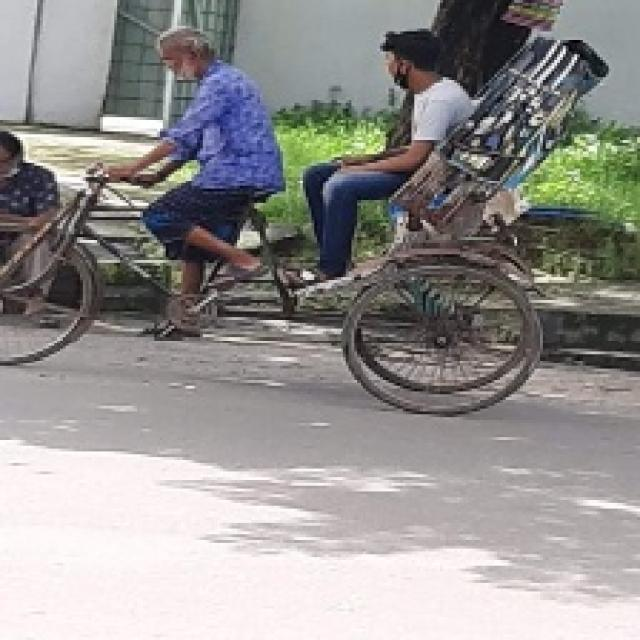rickshaw: (2, 26, 625, 386)
